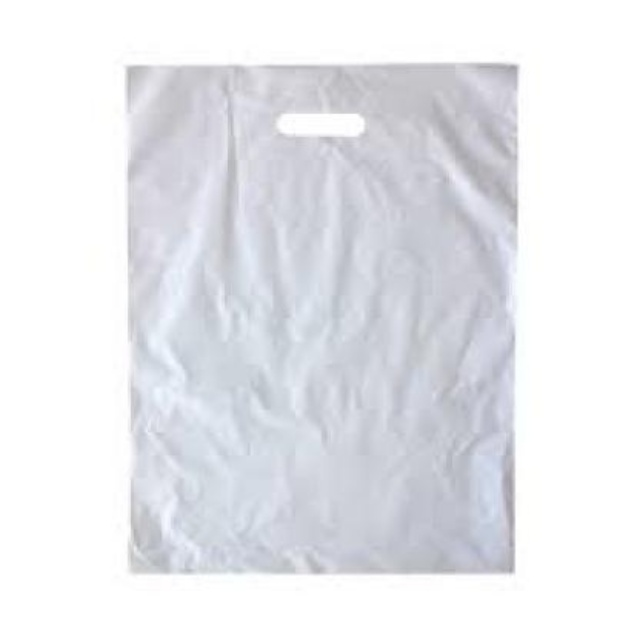trash: (126, 65, 515, 571)
